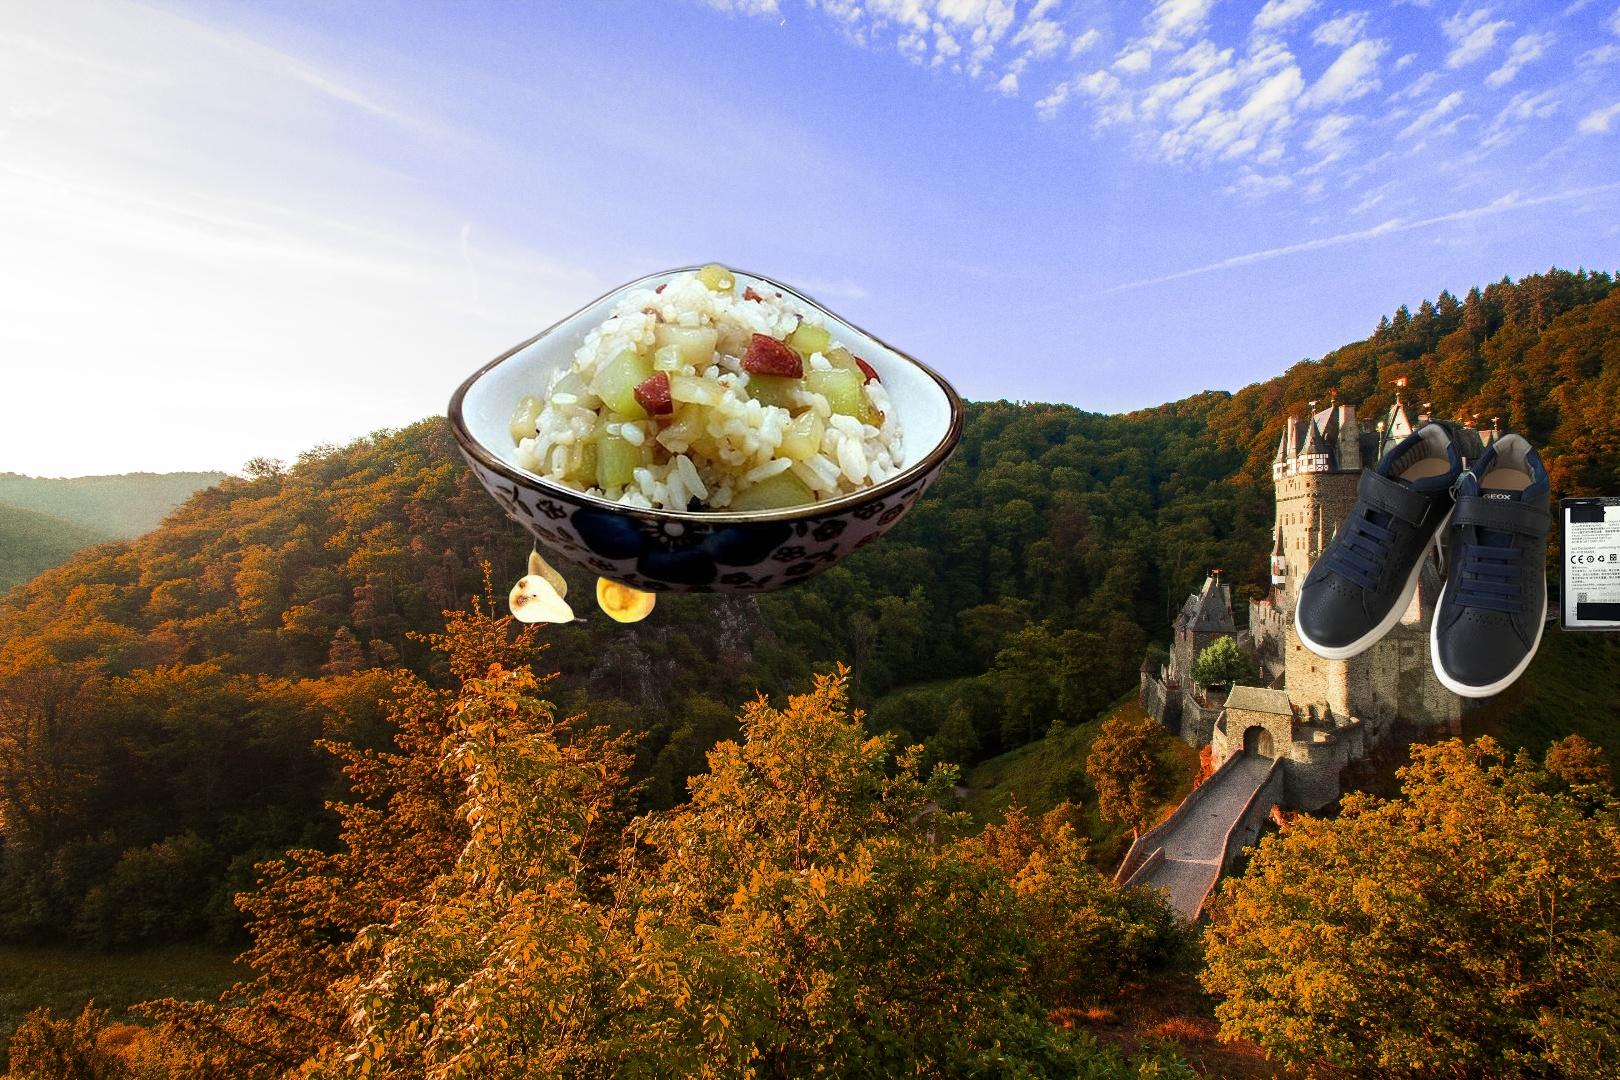battery: (1556, 479, 1620, 634)
biological: (442, 259, 972, 593), (501, 463, 714, 626)
shoes: (1232, 416, 1556, 851)
